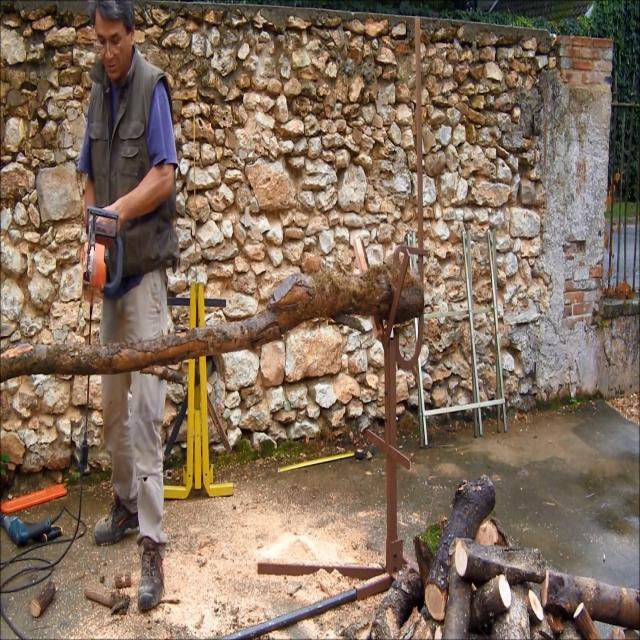Chainsaw: (64, 183, 134, 314)
